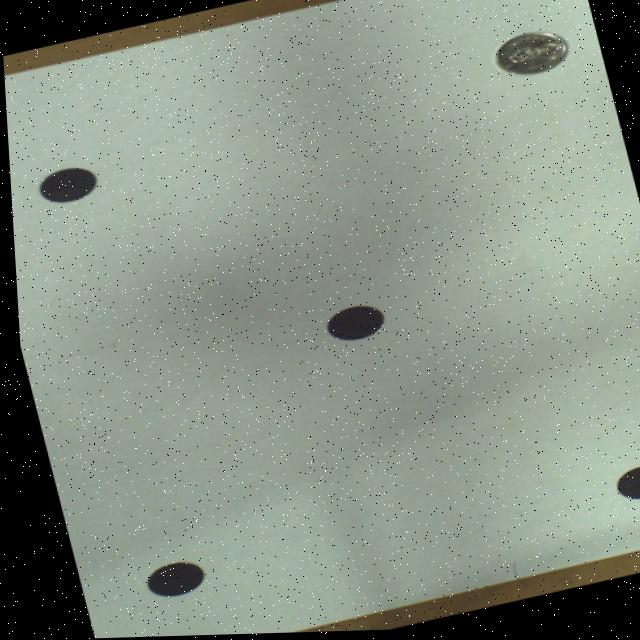space: (494, 36, 567, 79), (38, 168, 94, 203), (323, 308, 378, 343), (141, 563, 196, 598), (610, 469, 640, 503)
